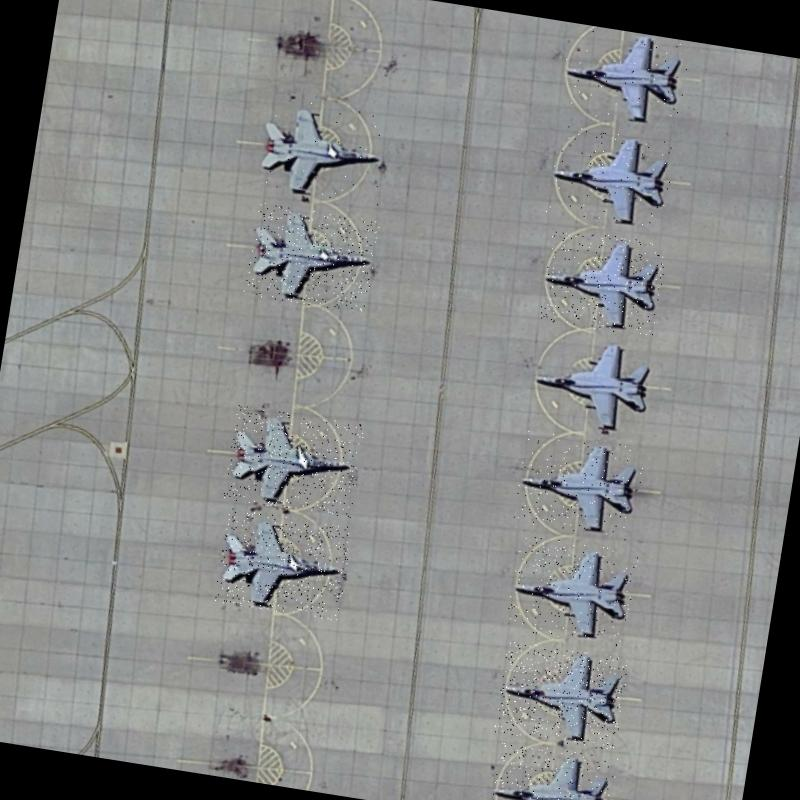A16: (222, 404, 364, 518), (214, 507, 352, 621), (253, 95, 392, 208), (504, 533, 640, 647), (242, 202, 380, 314), (494, 640, 630, 751), (512, 429, 646, 541), (526, 327, 658, 439), (538, 226, 668, 338), (556, 23, 692, 130), (544, 124, 676, 231), (488, 740, 617, 800)
